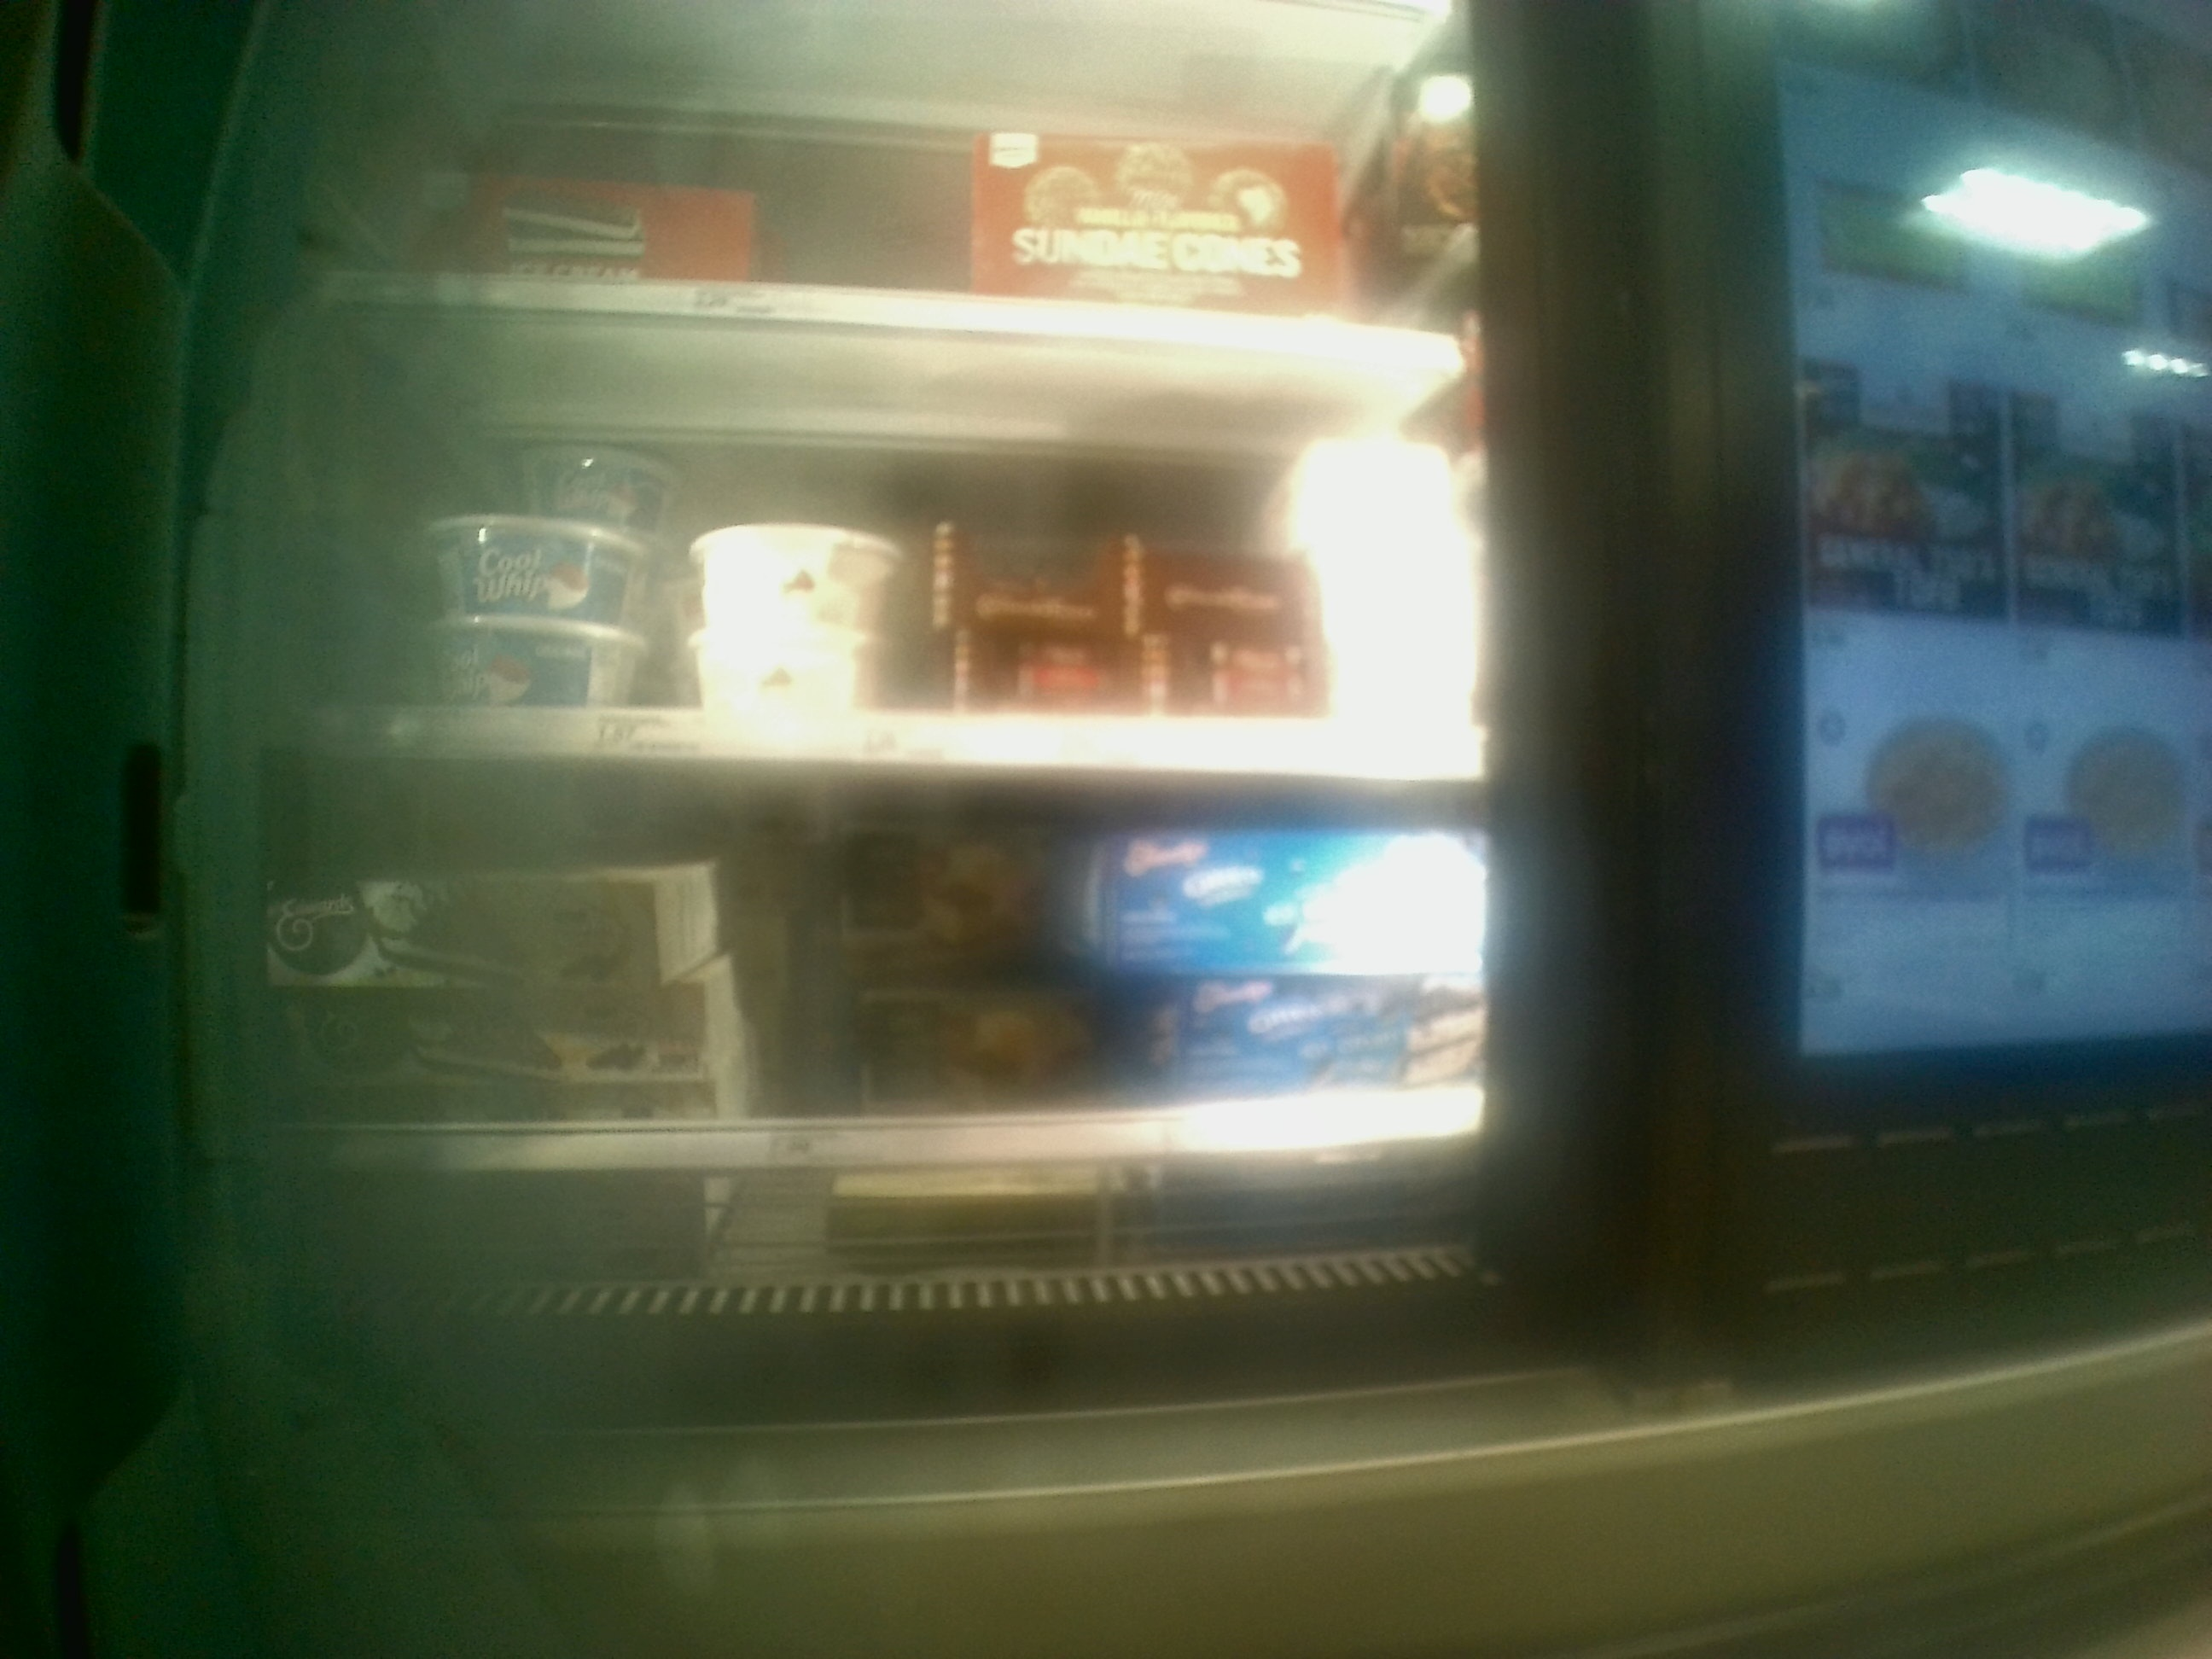shelf: (289, 295, 1493, 784), (263, 758, 1484, 1166)
